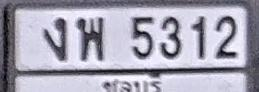1: (192, 16, 206, 59)
2: (214, 15, 237, 58)
3: (160, 16, 182, 58)
5: (131, 16, 154, 59)
A07: (43, 17, 67, 60)
A30: (76, 16, 104, 60)
CBI: (99, 71, 162, 92)
